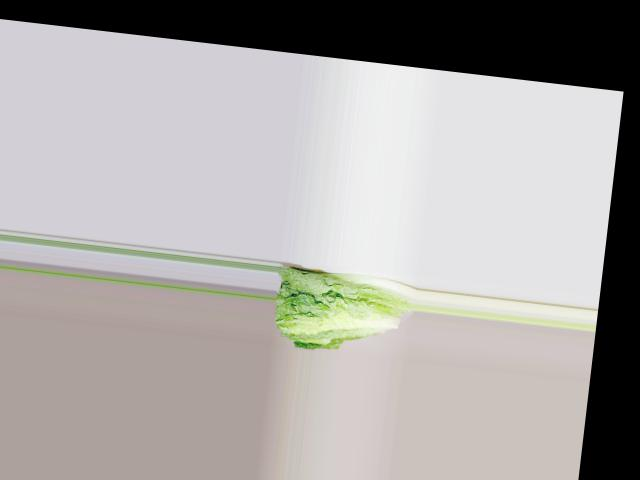lettuce: (270, 261, 411, 350)
